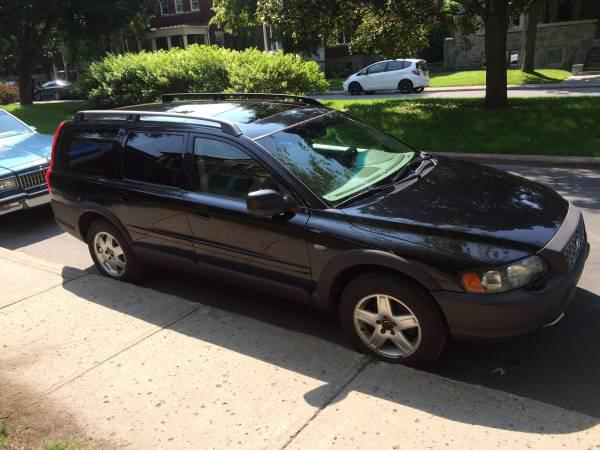volvo: (19, 76, 600, 382)
